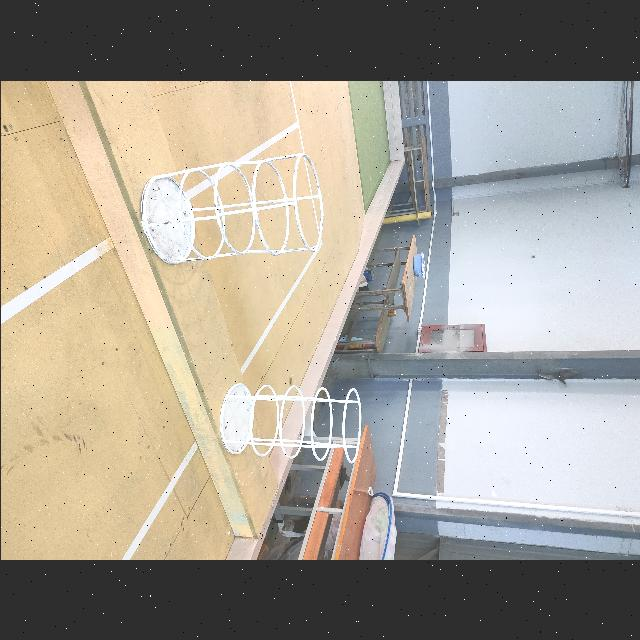S: (136, 151, 323, 266), (216, 382, 365, 464)
